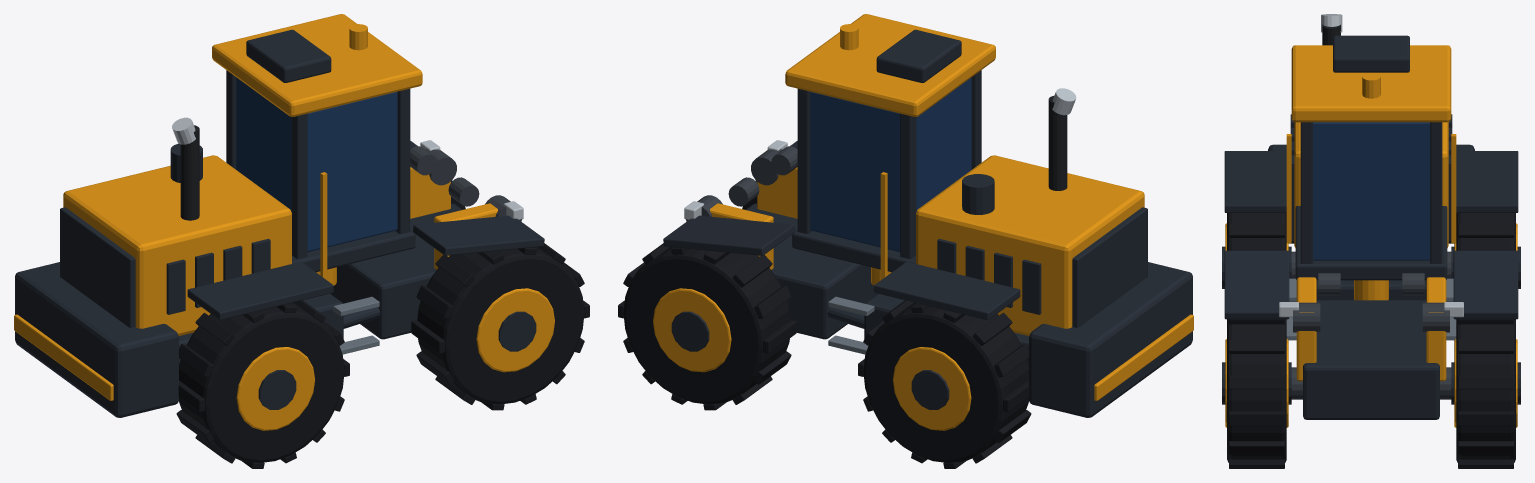
The model's file is wheel_loader_chassis.glb.
3 renders of one model, left to right at view 1: azimuth 30°, elevation 25°; view 2: azimuth 150°, elevation 25°; view 3: azimuth 270°, elevation 25°, orthographic.
Parts seen in each view (by area): view 1: WL_EngineHood, WL_CabGlassCore, WL_Tire_2, WL_Tire_4, WL_Counterweight, WL_CabRoof, WL_FrontChassis, WL_RearGrille, WL_FenderR_R, WL_Rim_2, WL_Rim_4, WL_FenderF_R (+24 smaller); view 2: WL_EngineHood, WL_CabGlassCore, WL_Tire_1, WL_Tire_3, WL_Counterweight, WL_CabRoof, WL_FrontChassis, WL_RearGrille, WL_FenderR_L, WL_Rim_1, WL_Rim_3, WL_FenderF_L (+25 smaller); view 3: WL_CabGlassCore, WL_FrontChassis, WL_CabRoof, WL_Tire_1, WL_Tire_2, WL_FenderF_L, WL_FenderF_R, WL_FenderR_L, WL_FenderR_R, WL_CabFloor, WL_CabACPod, WL_ROPS_Pillar_2 (+35 smaller).
Part boxes in pixels (x1,y1,x2,y2): WL_EngineHood: (63,155,291,335); WL_CabGlassCore: (236,77,397,251); WL_Tire_2: (417,247,584,404); WL_Tire_4: (179,302,344,462); WL_Counterweight: (15,262,178,417); WL_CabRoof: (212,14,422,116); WL_FrontChassis: (330,203,462,339); WL_RearGrille: (60,207,135,327); WL_FenderR_R: (187,262,333,320); WL_Rim_2: (476,288,554,372); WL_Rim_4: (236,347,314,430); WL_FenderF_R: (413,215,544,255); WL_EngineHood: (916,155,1144,335); WL_CabGlassCore: (810,77,971,251); WL_Tire_1: (623,247,790,404); WL_Tire_3: (863,302,1028,462); WL_Counterweight: (1029,262,1192,417); WL_CabRoof: (785,14,995,116); WL_FrontChassis: (745,203,877,339); WL_RearGrille: (1072,207,1147,327); WL_FenderR_L: (874,262,1020,320); WL_Rim_1: (653,288,731,372); WL_Rim_3: (893,347,971,430); WL_FenderF_L: (663,215,794,255); WL_CabGlassCore: (1313,122,1429,260); WL_FrontChassis: (1303,300,1439,419); WL_CabRoof: (1291,45,1451,122); WL_Tire_1: (1456,319,1515,462); WL_Tire_2: (1227,319,1286,462); WL_FenderF_L: (1453,250,1518,319); WL_FenderF_R: (1224,250,1289,319); WL_FenderR_L: (1456,151,1518,212); WL_FenderR_R: (1224,151,1286,212); WL_CabFloor: (1295,206,1447,280); WL_CabACPod: (1333,35,1409,72); WL_ROPS_Pillar_2: (1300,122,1312,263).
Bounding box in the file's own units: 4.18 × 3.05 × 2.4.
